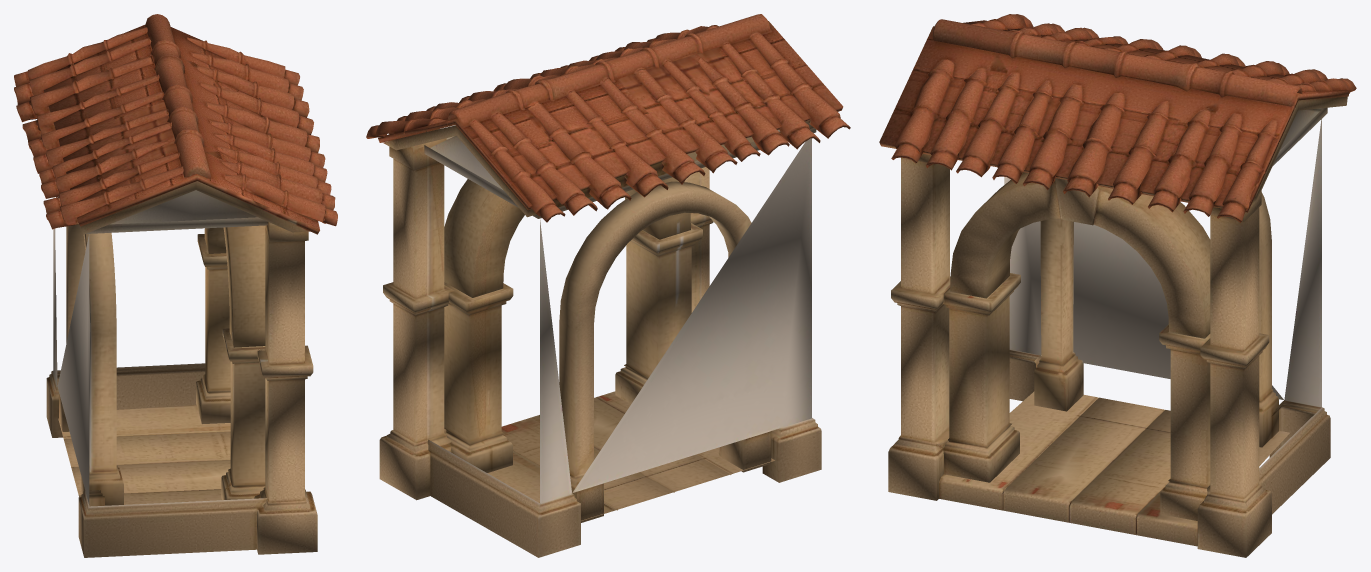
The model's file is arcade-bay-scene.glb.
3 views of the same model, side by side, from view 1: azimuth 30°, elevation 25°; view 2: azimuth 150°, elevation 25°; view 3: azimuth 270°, elevation 25° (orthographic). The views are drawn at different scales.
Visible parts, largest first — view 1: tripo_node_3d941029-ec04-49ba-9b99-90978712136f; view 2: tripo_node_3d941029-ec04-49ba-9b99-90978712136f; view 3: tripo_node_3d941029-ec04-49ba-9b99-90978712136f.
Part boxes in pixels (x1,y1,x2,y2): tripo_node_3d941029-ec04-49ba-9b99-90978712136f: (14, 14, 337, 557); tripo_node_3d941029-ec04-49ba-9b99-90978712136f: (366, 14, 850, 557); tripo_node_3d941029-ec04-49ba-9b99-90978712136f: (879, 14, 1356, 557).
Bounding box in the file's own units: 0.9326 × 0.998 × 1.02.
1 material, 1 textured.
